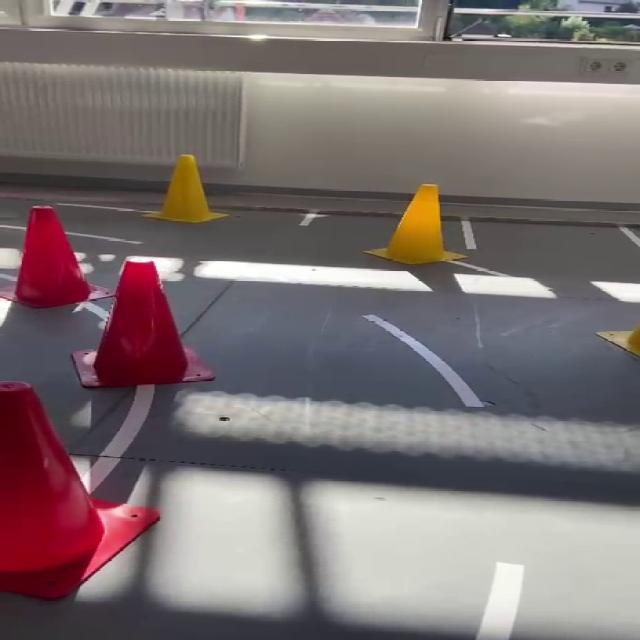Cone-red: (0, 207, 212, 386), (0, 382, 159, 598)
Cones-yellow: (364, 184, 463, 265), (146, 155, 226, 223), (600, 327, 639, 356)
